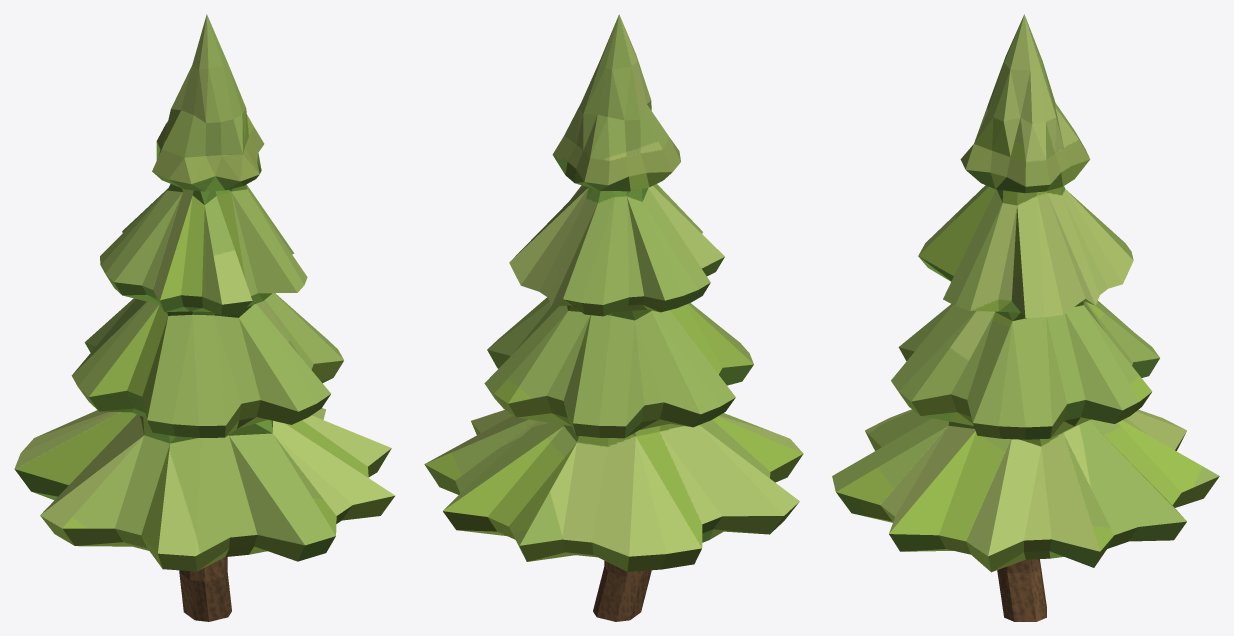
The model's file is tree9.glb.
The picture shows the model from 3 angles, left to right: view 1: azimuth 30°, elevation 25°; view 2: azimuth 150°, elevation 25°; view 3: azimuth 270°, elevation 25°; orthographic projection.
Parts seen in each view (by area): view 1: _9_tree; view 2: _9_tree; view 3: _9_tree.
Boxes of the visible parts, x1=… form: _9_tree: x1=14, y1=14, x2=395, y2=621; _9_tree: x1=424, y1=14, x2=803, y2=621; _9_tree: x1=832, y1=14, x2=1219, y2=621.
Size of the model in its own units: 0.5932 by 1.02 by 0.5989.
1 material, 1 textured.
